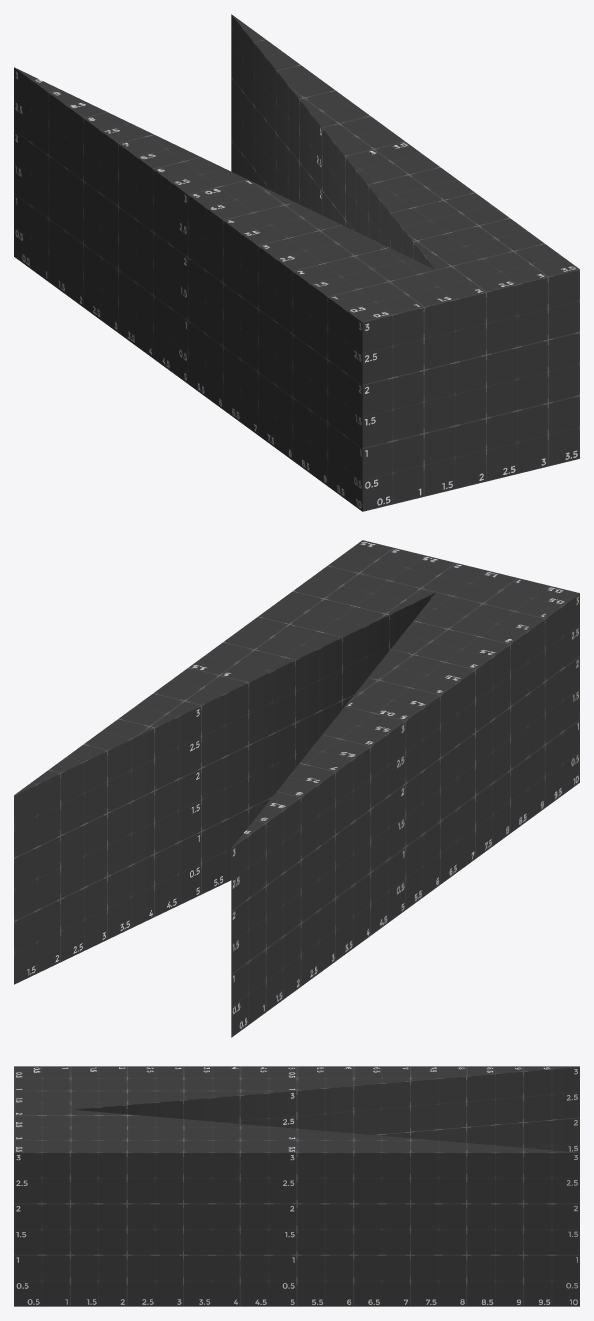
Rendered from WalkWedge_01.fbx.
3 renders of one model, top to bottom at view 1: azimuth 30°, elevation 25°; view 2: azimuth 150°, elevation 25°; view 3: azimuth 270°, elevation 25°, orthographic. The views are drawn at different scales.
Visible parts, largest first — view 1: WalkWedge_01; view 2: WalkWedge_01; view 3: WalkWedge_01.
Boxes of the visible parts, bbox=[...] form: WalkWedge_01: bbox=[14, 14, 579, 511]; WalkWedge_01: bbox=[14, 540, 579, 1037]; WalkWedge_01: bbox=[14, 1066, 579, 1306].
Bounding box in the file's own units: 3.6 × 3 × 10.
